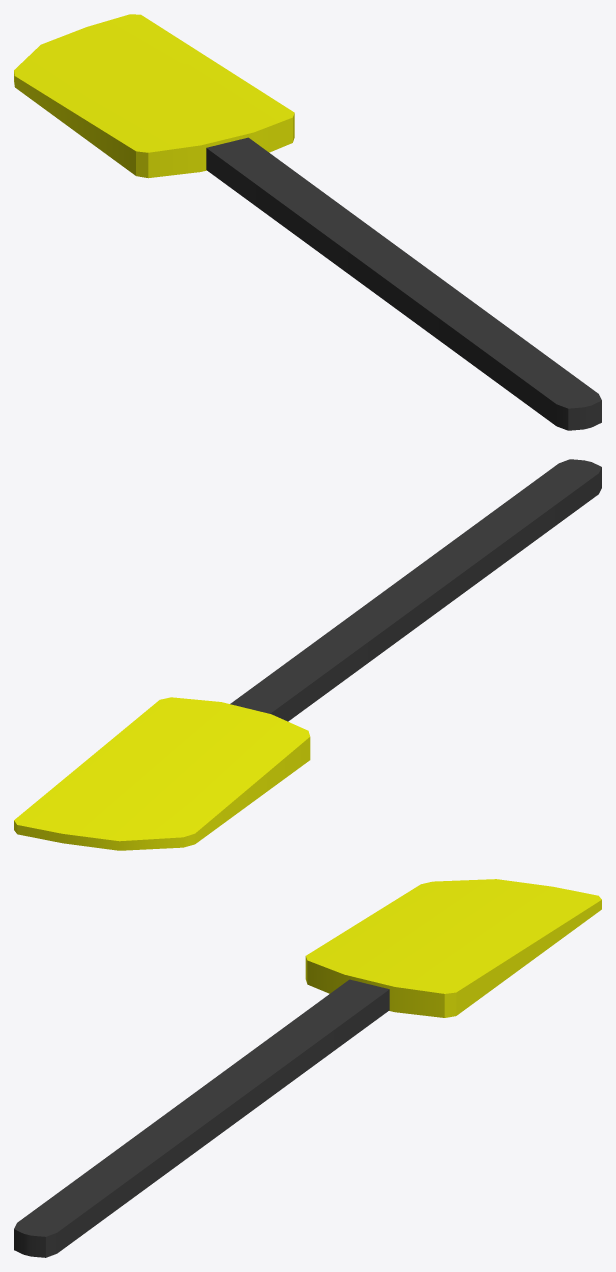
Rendered from Rubber_Spatula_7.FBX.
3 views of the same model, one above another, from view 1: azimuth 30°, elevation 25°; view 2: azimuth 150°, elevation 25°; view 3: azimuth 330°, elevation 25° (orthographic). The views are drawn at different scales.
Parts seen in each view (by area): view 1: Rubber_Spatula; view 2: Rubber_Spatula; view 3: Rubber_Spatula.
Boxes of the visible parts, x1,y1,x2,y2 form: Rubber_Spatula: (14,14,601,430); Rubber_Spatula: (14,459,601,850); Rubber_Spatula: (14,879,601,1257).
Bounding box in the file's own units: 15 × 2.41 × 86.77.
